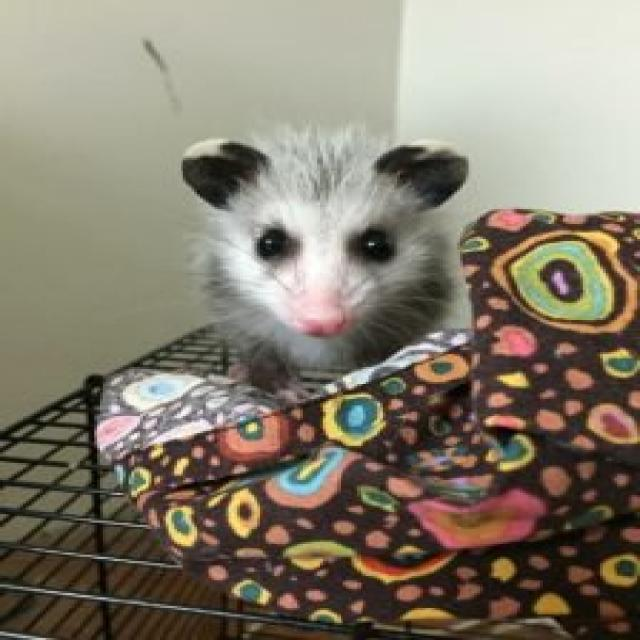Possum: (172, 110, 494, 382)
